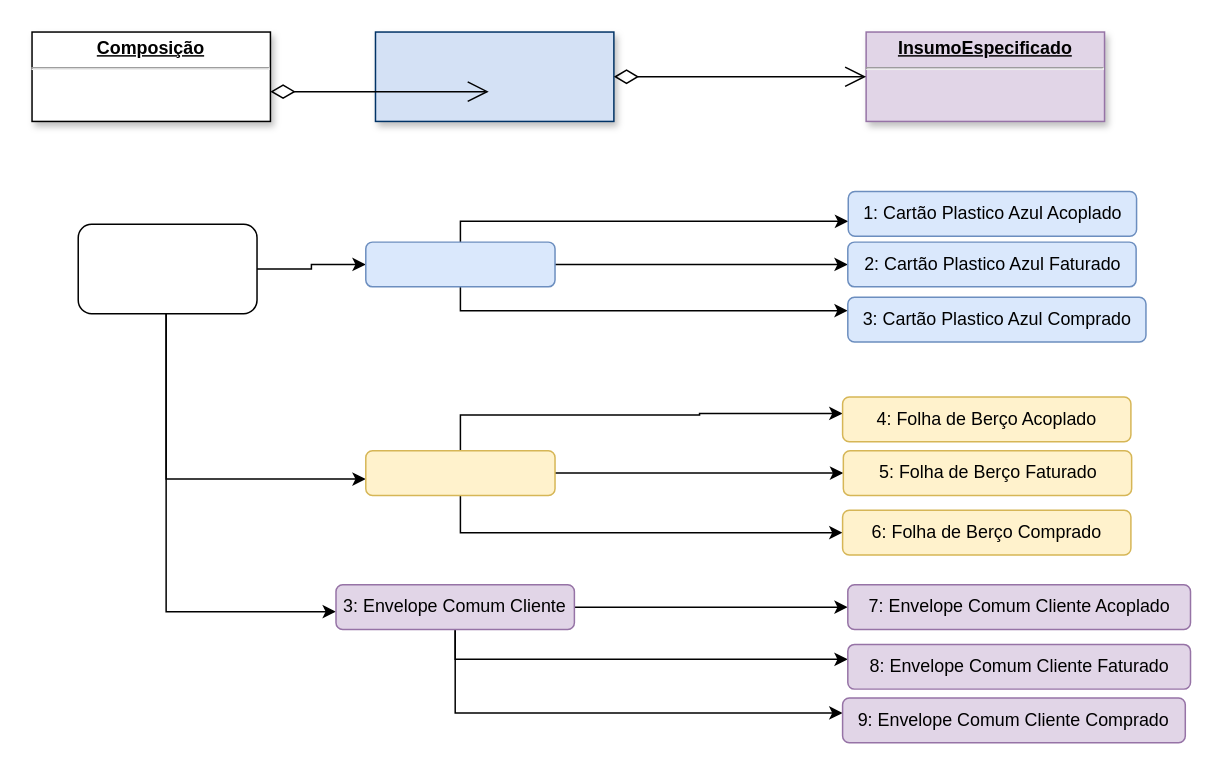
The diagram is 1217 pixels wide and 769 high, and some of its shapes have lost their labels. The centre of each missing label's shape, as x and y in pixels:
"1: Cartão Plastico Azul" goes at pixel 459 264.
"1: KIT - Cartão Cliente" goes at pixel 167 268.
"2: Folha de Berço" goes at pixel 459 472.
"Insumo" goes at pixel 495 78.
